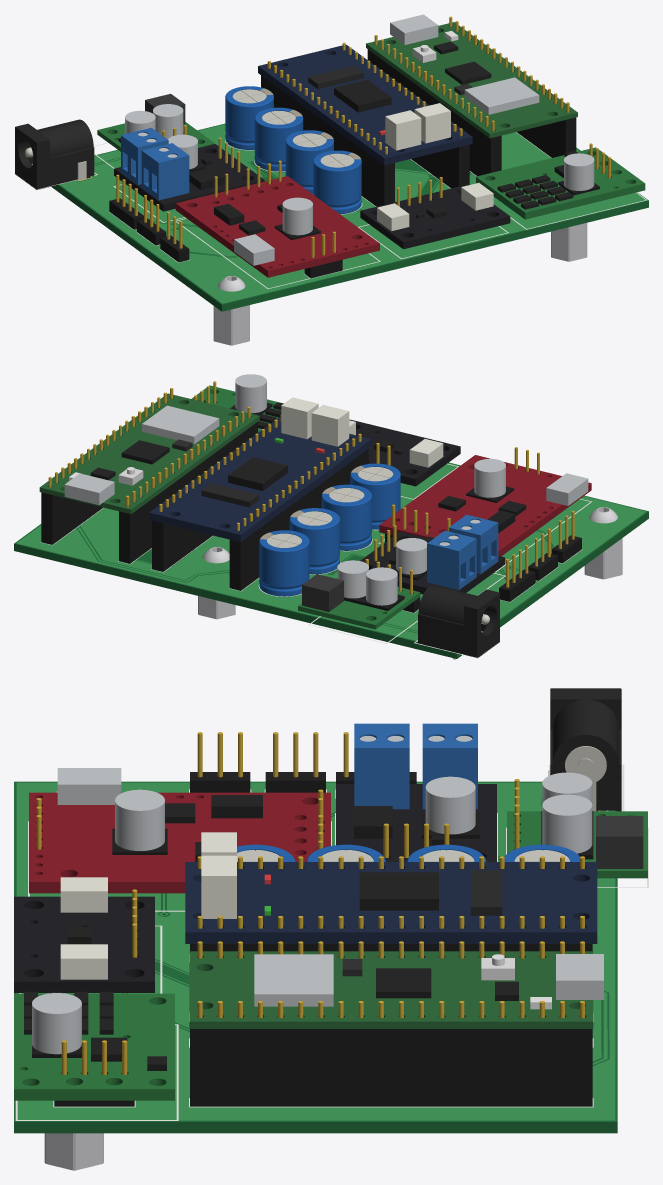
The model's file is pcb_assembly.glb.
The picture shows the model from 3 angles, top to bottom: view 1: azimuth 30°, elevation 25°; view 2: azimuth 150°, elevation 25°; view 3: azimuth 270°, elevation 25°; orthographic projection. The views are drawn at different scales.
Visible parts, largest first — view 1: pcb_assembly (×19); view 2: pcb_assembly (×20); view 3: pcb_assembly (×21).
Part boxes in pixels (x1,y1,x2,y2): pcb_assembly (×19): (14,14,648,345); pcb_assembly (×20): (14,374,648,659); pcb_assembly (×21): (14,688,648,1170).
Size of the model in its own units: 0.1067 by 0.0302 by 0.0801.
